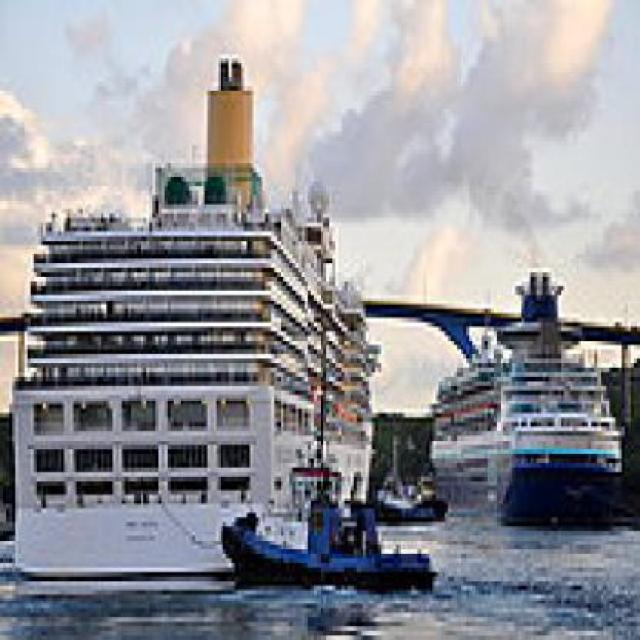cruise: (10, 42, 394, 605), (424, 278, 629, 536)
